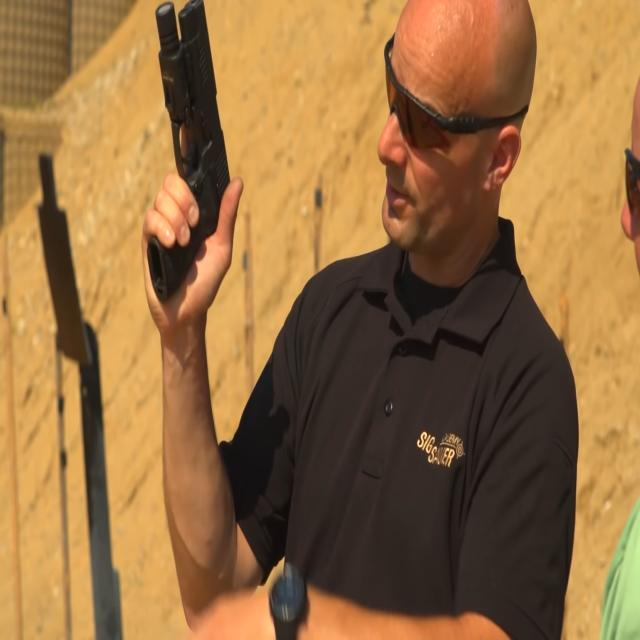Gun_Holder: (119, 0, 258, 305)
Person: (148, 0, 580, 640)
